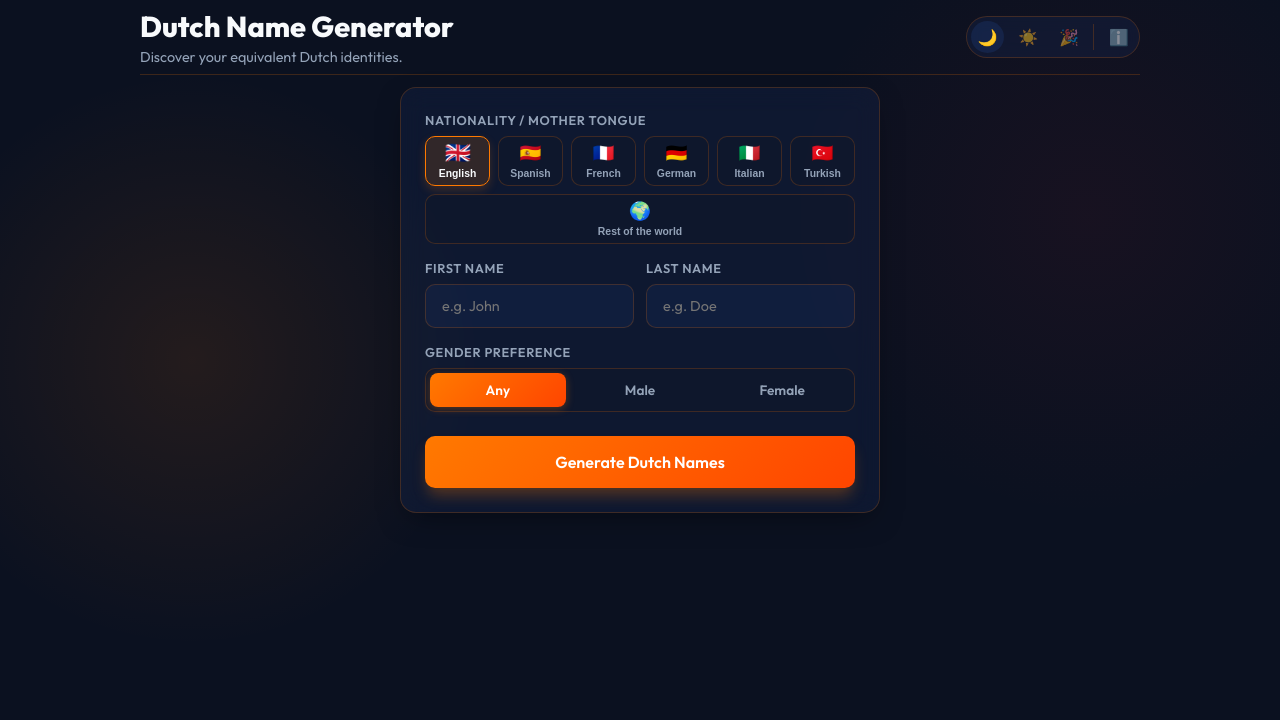
Scenario: App — User Behaviour › generates results after filling form and clicking submit
Type "John" into the field labelled "First Name" at (530, 306), box [425,284,634,328]
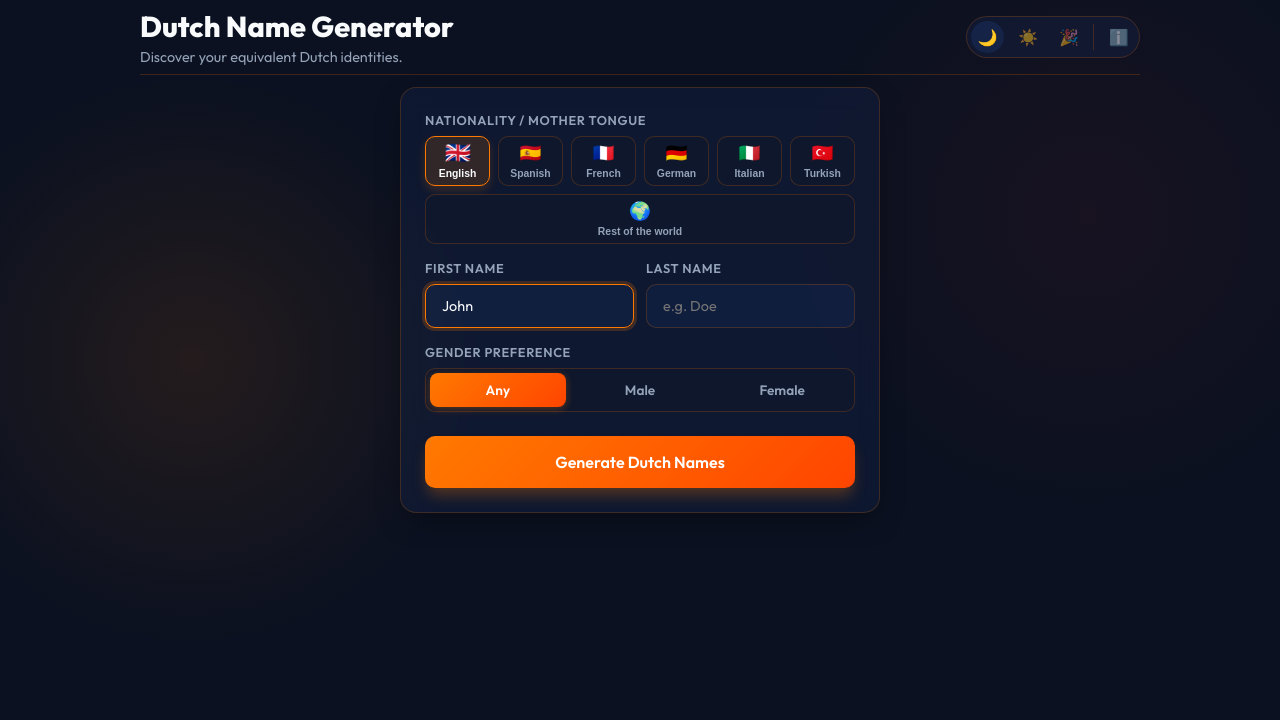
Type "Smith" into the field labelled "Last Name" at (750, 306), box [646,284,855,328]
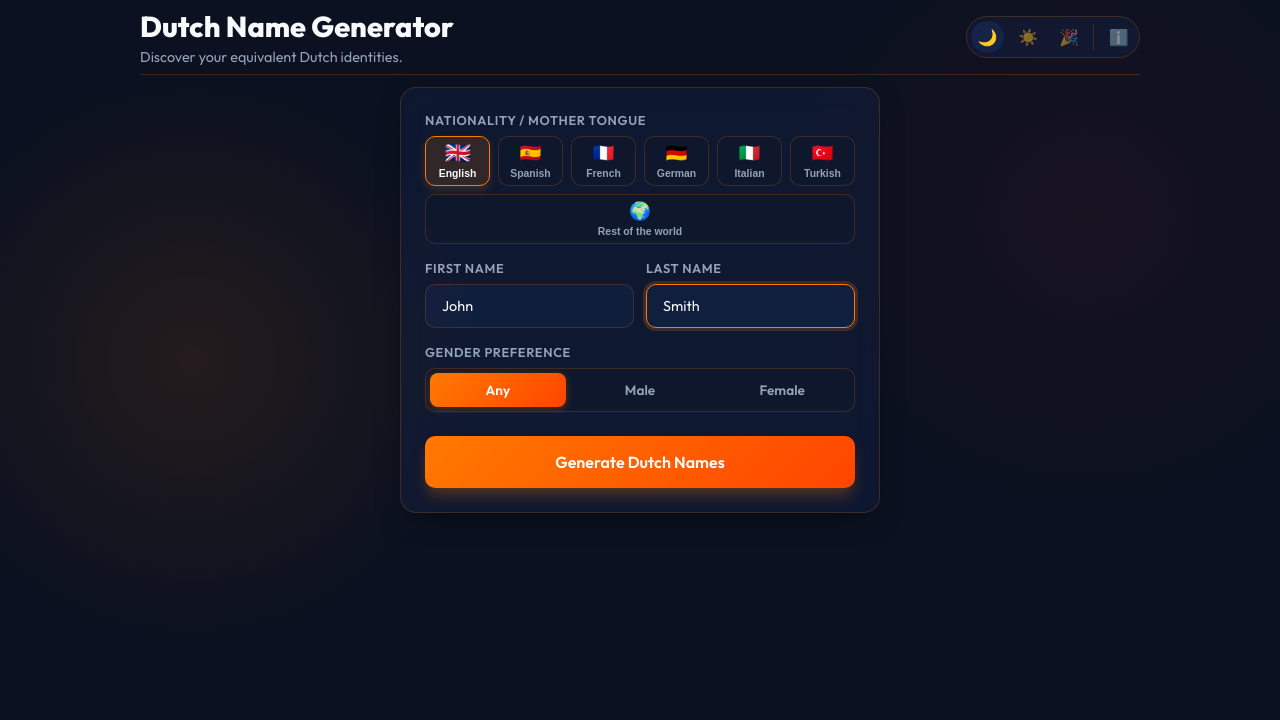
Click the button "Generate Dutch Names" at (640, 462), box [425,436,855,488]
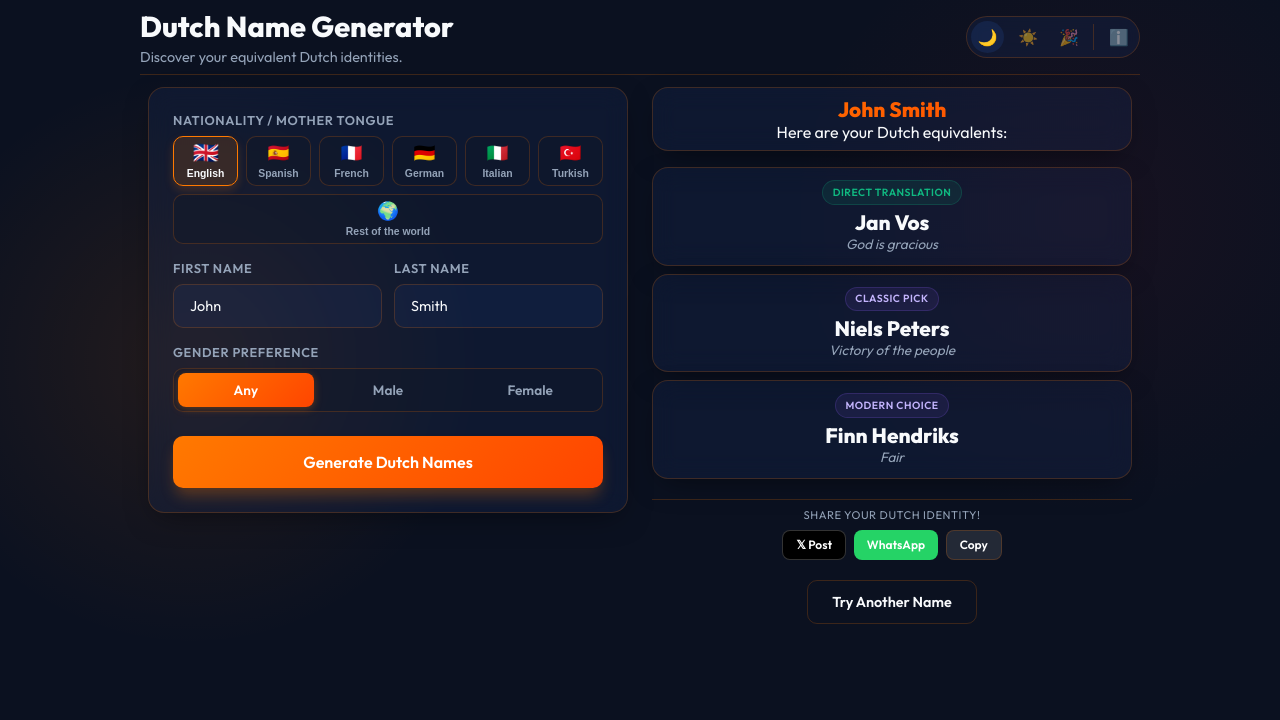
Check: the heading "John Smith" is shown, box [661,96,1123,122]
Check: the text "Here are your Dutch equivalents:" is shown, box [777,122,1007,142]
